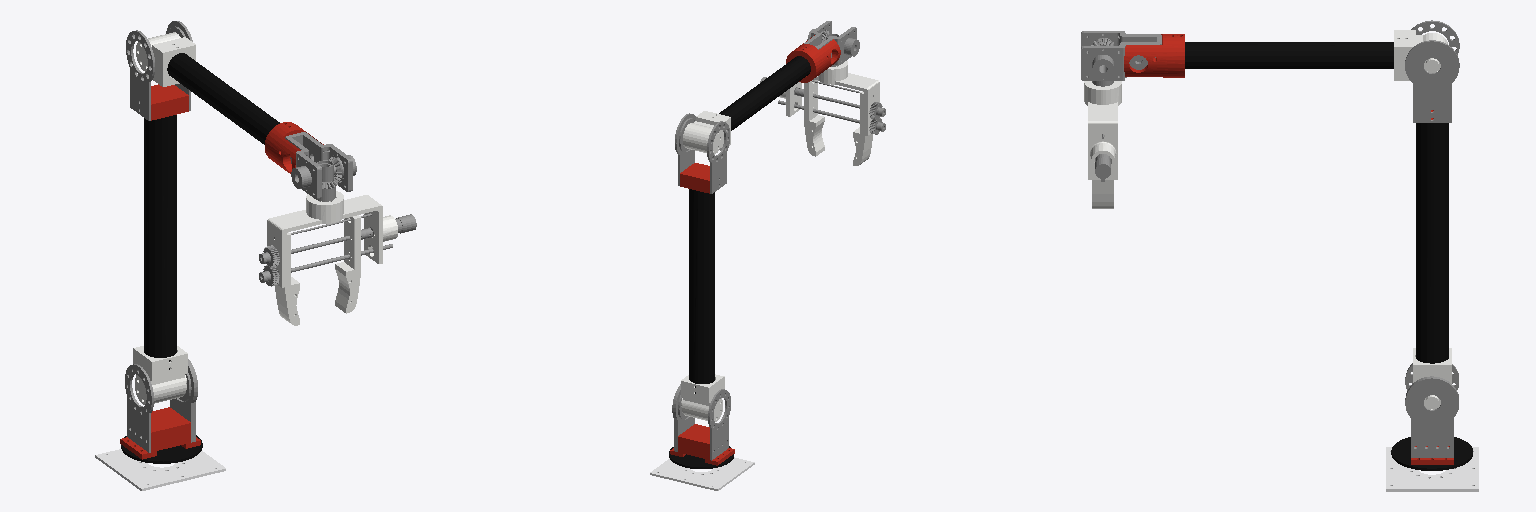
--- Facts derived from the render (not from the file) ---
3 views of the same robot in one strip: view 1: azimuth 30°, elevation 25°; view 2: azimuth 150°, elevation 25°; view 3: azimuth 270°, elevation 25° (orthographic).
Robot: newmanip_description — 30 links, 29 joints (6 revolute, 2 prismatic, 21 fixed); root link base_link; default pose: every joint at zero.
Visible links, largest first — view 1: link1, gripper, link2, rigid_base_plate, link1_bottom, link3, link1_base_connector, claw2, link1_motor_holder, link2_base_holder, link2_motor_holder, link3_holder (+4 smaller); view 2: link1, link2, gripper, rigid_base_plate, link1_bottom, link2_base_holder, link1_base_connector, claw2, link3_holder, link1_motor_holder, link2_motor_holder, link3 (+3 smaller); view 3: link1, link2, link1_holder_plate_2, link2_holder_plate, gripper, rigid_base_plate, link3, link3_holder, link2_base_holder, manipulator_base_plate, link1_bottom, claw2.
Link boxes in pixels (left/top/right/bottom): link1: left=144, top=115, right=176, bottom=369; gripper: left=267, top=191, right=397, bottom=287; link2: left=167, top=53, right=279, bottom=144; rigid_base_plate: left=95, top=449, right=225, bottom=490; link1_bottom: left=133, top=346, right=187, bottom=404; link3: left=285, top=132, right=352, bottom=199; link1_base_connector: left=120, top=407, right=200, bottom=459; claw2: left=335, top=215, right=360, bottom=313; link1_motor_holder: left=125, top=364, right=153, bottom=452; link2_base_holder: left=136, top=32, right=195, bottom=86; link2_motor_holder: left=126, top=30, right=154, bottom=120; link3_holder: left=265, top=122, right=323, bottom=173; link1: left=689, top=189, right=714, bottom=393; link2: left=719, top=56, right=810, bottom=130; gripper: left=779, top=61, right=879, bottom=135; rigid_base_plate: left=650, top=457, right=754, bottom=490; link1_bottom: left=681, top=374, right=724, bottom=421; link2_base_holder: left=683, top=111, right=730, bottom=154; link1_base_connector: left=670, top=424, right=734, bottom=465; claw2: left=804, top=79, right=824, bottom=156; link3_holder: left=786, top=35, right=840, bottom=82; link1_motor_holder: left=708, top=389, right=730, bottom=460; link2_motor_holder: left=707, top=121, right=729, bottom=193; link3: left=804, top=21, right=856, bottom=65; link1: left=1416, top=123, right=1448, bottom=363; link2: left=1185, top=42, right=1393, bottom=68; link1_holder_plate_2: left=1405, top=378, right=1458, bottom=457; link2_holder_plate: left=1405, top=40, right=1459, bottom=122; gripper: left=1084, top=81, right=1121, bottom=179; rigid_base_plate: left=1386, top=447, right=1478, bottom=491; link3: left=1081, top=31, right=1161, bottom=80; link3_holder: left=1124, top=34, right=1184, bottom=77; link2_base_holder: left=1394, top=30, right=1447, bottom=80; manipulator_base_plate: left=1391, top=437, right=1472, bottom=470; link1_bottom: left=1413, top=348, right=1451, bottom=409; claw2: left=1092, top=180, right=1113, bottom=208.
Bounding box of the posed robot: 0.3207 × 0.7261 × 0.8855 m (x, y, z).
Meshes: 29 distinct files referenced, 29 mesh visuals loaded (29 binary STL).

URDF robot description (newmanip_description):
<?xml version="1.0" encoding="utf-8"?>
<!-- This URDF was automatically created by SolidWorks to URDF Exporter! Originally created by Stephen Brawner ([email redacted]) 
     Commit Version: 1.6.0-4-g7f85cfe  Build Version: 1.6.7995.38578
     For more information, please see http://wiki.ros.org/sw_urdf_exporter -->
<robot name="newmanip_description">

  <link name="base_link"/>
  <joint name="base_to_base_plate" type="fixed">
    <parent link="base_link"/>
    <child link="rigid_base_plate"/>
    <origin xyz="0 0 0" rpy="0 0 0"/>
  </joint>

  <link name="rigid_base_plate">
    <inertial>
      <origin xyz="-0.00224854905210758 -2.22044604925031E-16 -1.11022302462516E-16" rpy="0 0 0" />
      <mass value="0.139707136084498" />
      <inertia ixx="0.000362153855961995" ixy="-1.86445498629699E-19" ixz="6.69074444268395E-18" iyy="0.000407966760717313" iyz="-2.52141086441536E-18" izz="0.000769538503612289" />
    </inertial>
    <visual>
      <origin xyz="0 0 0" rpy="0 0 0" />
      <geometry>
        <mesh filename="package://newmanip_description/meshes/rigid_base_plate.STL" />
      </geometry>
      <material name="">
        <color rgba="0.96078431372549 0.96078431372549 0.964705882352941 1" />
      </material>
    </visual>
    <collision>
      <origin xyz="0 0 0" rpy="0 0 0" />
      <geometry>
        <mesh filename="package://newmanip_description/meshes/rigid_base_plate.STL" />
      </geometry>
    </collision>
  </link>
  <link name="manipulator_base_plate">
    <inertial>
      <origin xyz="1.22886286373358E-05 1.11022302462516E-16 1.11022302462516E-16" rpy="0 0 0" />
      <mass value="0.0862820052494155" />
      <inertia ixx="0.000123802300064541" ixy="-2.58850064594347E-19" ixz="1.72303453251338E-18" iyy="0.000121470538062705" iyz="-8.61839529210846E-19" izz="0.00024491332977204" />
    </inertial>
    <visual>
      <origin xyz="0 0 0" rpy="0 0 0" />
      <geometry>
        <mesh filename="package://newmanip_description/meshes/manipulator_base_plate.STL" />
      </geometry>
      <material name="">
        <color rgba="0.0980392156862745 0.0980392156862745 0.0980392156862745 1" />
      </material>
    </visual>
    <collision>
      <origin xyz="0 0 0" rpy="0 0 0" />
      <geometry>
        <mesh filename="package://newmanip_description/meshes/manipulator_base_plate.STL" />
      </geometry>
    </collision>
  </link>
  <joint name="manipulaotr_base_plate_j_base_plate" type="revolute">
    <origin xyz="0 0 0.035" rpy="0 0 0" />
    <parent link="rigid_base_plate" />
    <child link="manipulator_base_plate" />
    <axis xyz="0 0 1" />
    <limit lower="0" upper="6.28" effort="5" velocity="300" />
  </joint>
  <link name="link1_base_connector">
    <inertial>
      <origin xyz="-0.00250683727782453 7.21501936895574E-06 0.0284780963824992" rpy="0 0 0" />
      <mass value="0.3101493034797" />
      <inertia ixx="0.000225770602403096" ixy="-1.53108847872636E-11" ixz="-4.44856677198981E-08" iyy="0.000328764440352947" iyz="-9.00769232145696E-09" izz="0.000429446427553537" />
    </inertial>
    <visual>
      <origin xyz="0 0 0" rpy="0 0 0" />
      <geometry>
        <mesh filename="package://newmanip_description/meshes/link1_base_connector.STL" />
      </geometry>
      <material name="">
        <color rgba="0.768627450980392 0.207843137254902 0.152941176470588 1" />
      </material>
    </visual>
    <collision>
      <origin xyz="0 0 0" rpy="0 0 0" />
      <geometry>
        <mesh filename="package://newmanip_description/meshes/link1_base_connector.STL" />
      </geometry>
    </collision>
  </link>
  <joint name="link1_base_connector_j_base_plate" type="fixed">
    <origin xyz="0 0 0" rpy="0 0 0" />
    <parent link="manipulator_base_plate" />
    <child link="link1_base_connector" />
    <axis xyz="0 0 0" />
  </joint>
  <link name="link1_motor_holder">
    <inertial>
      <origin xyz="-5.01820807130571E-14 0.0102439720821413 0.0484515092209075" rpy="0 0 0" />
      <mass value="0.0472357381724757" />
      <inertia ixx="0.000129972797985735" ixy="7.57422861461972E-17" ixz="5.0252648576416E-14" iyy="9.69913160495726E-05" iyz="-4.58591894562E-09" izz="3.3178297068652E-05" />
    </inertial>
    <visual>
      <origin xyz="0 0 0" rpy="0 0 0" />
      <geometry>
        <mesh filename="package://newmanip_description/meshes/link1_motor_holder.STL" />
      </geometry>
      <material name="">
        <color rgba="0.627450980392157 0.627450980392157 0.627450980392157 1" />
      </material>
    </visual>
    <collision>
      <origin xyz="0 0 0" rpy="0 0 0" />
      <geometry>
        <mesh filename="package://newmanip_description/meshes/link1_motor_holder.STL" />
      </geometry>
    </collision>
  </link>
  <joint name="link1_motor_holder_j_link1_base_connector" type="fixed">
    <origin xyz="-0.0475 -0.010235 0.0325" rpy="0 0 0" />
    <parent link="link1_base_connector" />
    <child link="link1_motor_holder" />
    <axis xyz="0 0 0" />
  </joint>
  <link name="link1_holder_plate1">
    <inertial>
      <origin xyz="-7.59478585334872E-05 0.0302376768181887 0.0532016958918762" rpy="0 0 0" />
      <mass value="0.0534173325460069" />
      <inertia ixx="0.000146682680726942" ixy="-1.06020409384096E-11" ixz="1.49286094539467E-07" iyy="0.000109985302453133" iyz="7.03231800187629E-09" izz="3.69574692009433E-05" />
    </inertial>
    <visual>
      <origin xyz="0 0 0" rpy="0 0 0" />
      <geometry>
        <mesh filename="package://newmanip_description/meshes/link1_holder_plate1.STL" />
      </geometry>
      <material name="">
        <color rgba="0.627450980392157 0.627450980392157 0.627450980392157 1" />
      </material>
    </visual>
    <collision>
      <origin xyz="0 0 0" rpy="0 0 0" />
      <geometry>
        <mesh filename="package://newmanip_description/meshes/link1_holder_plate1.STL" />
      </geometry>
    </collision>
  </link>
  <joint name="link1_holder_plate1_j_link1_base_connector" type="fixed">
    <origin xyz="0.0425 -0.030235 0.0325" rpy="0 0 0" />
    <parent link="link1_base_connector" />
    <child link="link1_holder_plate1" />
    <axis xyz="0 0 0" />
  </joint>
  <link name="link1_holder_plate_2">
    <inertial>
      <origin xyz="6.66133814775094E-16 0.0302374993702151 0.057469700426654" rpy="0 0 0" />
      <mass value="0.048340470503894" />
      <inertia ixx="0.000126171826754474" ixy="1.06018937826447E-19" ixz="-1.40627336671772E-18" iyy="9.57171643871991E-05" iyz="6.11742086252551E-09" izz="3.05835702886188E-05" />
    </inertial>
    <visual>
      <origin xyz="0 0 0" rpy="0 0 0" />
      <geometry>
        <mesh filename="package://newmanip_description/meshes/link1_holder_plate_2.STL" />
      </geometry>
      <material name="">
        <color rgba="0.627450980392157 0.627450980392157 0.627450980392157 1" />
      </material>
    </visual>
    <collision>
      <origin xyz="0 0 0" rpy="0 0 0" />
      <geometry>
        <mesh filename="package://newmanip_description/meshes/link1_holder_plate_2.STL" />
      </geometry>
    </collision>
  </link>
  <joint name="link1_holder_plate2_j_plate1" type="fixed">
    <origin xyz="0.047 -0.030235 0.0325" rpy="0 0 0" />
    <parent link="link1_base_connector" />
    <child link="link1_holder_plate_2" />
    <axis xyz="0 0 0" />
  </joint>
  <link name="link1_bottom">
    <inertial>
      <origin xyz="-0.043858301946271 2.53706144981436E-09 0.0175036982186831" rpy="0 0 0" />
      <mass value="0.33776487197569" />
      <inertia ixx="0.00033772543614853" ixy="-3.46909757097291E-12" ixz="5.12404937468018E-06" iyy="0.000417922135939936" iyz="1.10059853231461E-11" izz="0.0003075355761408" />
    </inertial>
    <visual>
      <origin xyz="0 0 0" rpy="0 0 0" />
      <geometry>
        <mesh filename="package://newmanip_description/meshes/link1_bottom.STL" />
      </geometry>
      <material name="">
        <color rgba="0.964705882352941 0.964705882352941 0.952941176470588 1" />
      </material>
    </visual>
    <collision>
      <origin xyz="0 0 0" rpy="0 0 0" />
      <geometry>
        <mesh filename="package://newmanip_description/meshes/link1_bottom.STL" />
      </geometry>
    </collision>
  </link>
  <joint name="lin1_bottom_j_motor_holder_plate2" type="revolute">
    <origin xyz="-0.004775 0.030235 0.09" rpy="0 0 0" />
    <parent link="link1_holder_plate_2" />
    <child link="link1_bottom" />
    <axis xyz="-1 0 0" />
    <limit lower="-1.0" upper="0.0" effort="5" velocity="300" />
  </joint>
  <link name="link1">
    <inertial>
      <origin xyz="-5.39581868075345E-09 -1.69612222045146E-08 0.260067885294572" rpy="0 0 0" />
      <mass value="1.16262072100872" />
      <inertia ixx="0.0294764717399224" ixy="2.64070289134653E-08" ixz="3.02264641415134E-09" iyy="0.0294766138223382" iyz="-6.05581113367684E-09" izz="0.000654113236446206" />
    </inertial>
    <visual>
      <origin xyz="0 0 0" rpy="0 0 0" />
      <geometry>
        <mesh filename="package://newmanip_description/meshes/link1.STL" />
      </geometry>
      <material name="">
        <color rgba="0.0980392156862745 0.0980392156862745 0.0980392156862745 1" />
      </material>
    </visual>
    <collision>
      <origin xyz="0 0 0" rpy="0 0 0" />
      <geometry>
        <mesh filename="package://newmanip_description/meshes/link1.STL" />
      </geometry>
    </collision>
  </link>
  <joint name="link1_j_link1_bottom" type="fixed">
    <origin xyz="-0.044725 0 0.055" rpy="0 0 0" />
    <parent link="link1_bottom" />
    <child link="link1" />
    <axis xyz="0 0 0" />
  </joint>
  <link name="link1_end_part">
    <inertial>
      <origin xyz="3.49700294943744E-07 -5.36573157017273E-08 0.0025745156955117" rpy="0 0 0" />
      <mass value="0.0887935549462749" />
      <inertia ixx="6.05870122823914E-05" ixy="-1.20673426212271E-11" ixz="1.34987864310752E-11" iyy="8.18529027888766E-05" iyz="-3.93645552324886E-13" izz="0.000124952192875935" />
    </inertial>
    <visual>
      <origin xyz="0 0 0" rpy="0 0 0" />
      <geometry>
        <mesh filename="package://newmanip_description/meshes/link1_end_part.STL" />
      </geometry>
      <material name="">
        <color rgba="0.768627450980392 0.207843137254902 0.152941176470588 1" />
      </material>
    </visual>
    <collision>
      <origin xyz="0 0 0" rpy="0 0 0" />
      <geometry>
        <mesh filename="package://newmanip_description/meshes/link1_end_part.STL" />
      </geometry>
    </collision>
  </link>
  <joint name="link1_end_part_j_link1" type="fixed">
    <origin xyz="0 0 0.51997" rpy="0 0 0" />
    <parent link="link1" />
    <child link="link1_end_part" />
    <axis xyz="0 0 0" />
  </joint>
  <link name="link2_holder_plate">
    <inertial>
      <origin xyz="-2.01196429752137E-05 7.42303459810856E-08 0.0581704451095113" rpy="0 0 0" />
      <mass value="0.0587346240548899" />
      <inertia ixx="0.00016111589583289" ixy="1.06567062915207E-12" ixz="3.89385339679009E-08" iyy="0.000126130278788689" iyz="1.31250923946133E-11" izz="3.52646621936093E-05" />
    </inertial>
    <visual>
      <origin xyz="0 0 0" rpy="0 0 0" />
      <geometry>
        <mesh filename="package://newmanip_description/meshes/link2_holder_plate.STL" />
      </geometry>
      <material name="">
        <color rgba="0.627450980392157 0.627450980392157 0.627450980392157 1" />
      </material>
    </visual>
    <collision>
      <origin xyz="0 0 0" rpy="0 0 0" />
      <geometry>
        <mesh filename="package://newmanip_description/meshes/link2_holder_plate.STL" />
      </geometry>
    </collision>
  </link>
  <joint name="link2_holder_plate_j_link1_endpart" type="fixed">
    <origin xyz="0.0425 0 0.0094039" rpy="0 0 0" />
    <parent link="link1_end_part" />
    <child link="link2_holder_plate" />
    <axis xyz="0 0 0" />
  </joint>
  <link name="link2_base_holder">
    <inertial>
      <origin xyz="-0.0396701193420625 -0.0198734327497784 -2.57427568595148E-07" rpy="0 0 0" />
      <mass value="0.334451491213555" />
      <inertia ixx="0.000352606274559091" ixy="-3.68775904581431E-06" ixz="9.85102576858203E-13" iyy="0.000277425037448963" iyz="-1.92982150605619E-11" izz="0.000399176202587073" />
    </inertial>
    <visual>
      <origin xyz="0 0 0" rpy="0 0 0" />
      <geometry>
        <mesh filename="package://newmanip_description/meshes/link2_base_holder.STL" />
      </geometry>
      <material name="">
        <color rgba="0.964705882352941 0.964705882352941 0.952941176470588 1" />
      </material>
    </visual>
    <collision>
      <origin xyz="0 0 0" rpy="0 0 0" />
      <geometry>
        <mesh filename="package://newmanip_description/meshes/link2_base_holder.STL" />
      </geometry>
    </collision>
  </link>
  <joint name="link2_base_holder_j_link2_holder_plate" type="revolute">
    <origin xyz="-0.0022749 0 0.091125" rpy="0 0 0" />
    <parent link="link2_holder_plate" />
    <child link="link2_base_holder" />
    <axis xyz="-1 0 0" />
    <limit lower="-0.85" upper="0.85" effort="5" velocity="300" />
  </joint>
  <link name="link2">
    <inertial>
      <origin xyz="-3.2036842068095E-09 -0.210020758728246 3.06611558364978E-09" rpy="0 0 0" />
      <mass value="0.738793048590477" />
      <inertia ixx="0.0125138808760153" ixy="2.81531282534996E-11" ixz="2.36623911843703E-11" iyy="0.000267941556387362" iyz="4.69560000685452E-11" izz="0.0125149718463103" />
    </inertial>
    <visual>
      <origin xyz="0 0 0" rpy="0 0 0" />
      <geometry>
        <mesh filename="package://newmanip_description/meshes/link2.STL" />
      </geometry>
      <material name="">
        <color rgba="0.0980392156862745 0.0980392156862745 0.0980392156862745 1" />
      </material>
    </visual>
    <collision>
      <origin xyz="0 0 0" rpy="0 0 0" />
      <geometry>
        <mesh filename="package://newmanip_description/meshes/link2.STL" />
      </geometry>
    </collision>
  </link>
  <joint name="link2_j_link2_bottom" type="fixed">
    <origin xyz="-0.040225 -0.055 0" rpy="0 0 0" />
    <parent link="link2_base_holder" />
    <child link="link2" />
    <axis xyz="0 0 0" />
  </joint>
  <link name="link3_holder">
    <inertial>
      <origin xyz="1.04092800823352E-07 -0.0212951513452504 -7.80283795864811E-05" rpy="0 0 0" />
      <mass value="0.188164308449144" />
      <inertia ixx="0.000263210714322179" ixy="1.19504902122293E-09" ixz="4.12755228449986E-11" iyy="0.000217666445518385" iyz="-2.0692789254073E-07" izz="0.000312157989750956" />
    </inertial>
    <visual>
      <origin xyz="0 0 0" rpy="0 0 0" />
      <geometry>
        <mesh filename="package://newmanip_description/meshes/link3_holder.STL" />
      </geometry>
      <material name="">
        <color rgba="0.768627450980392 0.207843137254902 0.152941176470588 1" />
      </material>
    </visual>
    <collision>
      <origin xyz="0 0 0" rpy="0 0 0" />
      <geometry>
        <mesh filename="package://newmanip_description/meshes/link3_holder.STL" />
      </geometry>
    </collision>
  </link>
  <joint name="link3_holder_j_link2" type="fixed">
    <origin xyz="0 -0.41558 0" rpy="0 0 0" />
    <parent link="link2" />
    <child link="link3_holder" />
    <axis xyz="0 0 0" />
  </joint>
  <link name="link3">
    <inertial>
      <origin xyz="-0.0169999999422197 -0.01892736028304 -6.04970303303975E-05" rpy="0 0 0" />
      <mass value="0.186401761983701" />
      <inertia ixx="0.00041649103061218" ixy="3.34702334402905E-13" ixz="-3.13694565292869E-11" iyy="0.000184673919396029" iyz="-1.00161394749398E-06" izz="0.000448406474476473" />
    </inertial>
    <visual>
      <origin xyz="0 0 0" rpy="0 0 0" />
      <geometry>
        <mesh filename="package://newmanip_description/meshes/link3.STL" />
      </geometry>
      <material name="">
        <color rgba="0.627450980392157 0.627450980392157 0.627450980392157 1" />
      </material>
    </visual>
    <collision>
      <origin xyz="0 0 0" rpy="0 0 0" />
      <geometry>
        <mesh filename="package://newmanip_description/meshes/link3.STL" />
      </geometry>
    </collision>
  </link>
  <joint name="link3_j_link3_holder" type="fixed">
    <origin xyz="0.017 -0.065388 0" rpy="0 0 0" />
    <parent link="link3_holder" />
    <child link="link3" />
    <axis xyz="0 0 0" />
  </joint>
  <link name="bevel_2_1">
    <inertial>
      <origin xyz="-0.00198768283371575 4.61148896846453E-11 -6.90960622051762E-11" rpy="0 0 0" />
      <mass value="0.0392764387724245" />
      <inertia ixx="9.38677349018228E-06" ixy="3.28897900019598E-14" ixz="-2.48284275580556E-14" iyy="9.32983228228972E-06" iyz="-4.95150376085659E-16" izz="9.32983227817736E-06" />
    </inertial>
    <visual>
      <origin xyz="0 0 0" rpy="0 0 0" />
      <geometry>
        <mesh filename="package://newmanip_description/meshes/bevel_2_1.STL" />
      </geometry>
      <material name="">
        <color rgba="0.627450980392157 0.627450980392157 0.627450980392157 1" />
      </material>
    </visual>
    <collision>
      <origin xyz="0 0 0" rpy="0 0 0" />
      <geometry>
        <mesh filename="package://newmanip_description/meshes/bevel_2_1.STL" />
      </geometry>
    </collision>
  </link>
  <joint name="bevel_2_1_j_link3" type="revolute">
    <origin xyz="0.024311 -0.064641 -0.00015997" rpy="0 0 0" />
    <parent link="link3" />
    <child link="bevel_2_1" />
    <axis xyz="-1 0 0" />
    <limit lower="-0.2" upper="3.14" effort="5" velocity="300" />
  </joint>
  <link name="link3_coupler">
    <inertial>
      <origin xyz="-5.82388929926125E-05 6.31850608294737E-05 0.00122932281260923" rpy="0 0 0" />
      <mass value="0.0167222714991286" />
      <inertia ixx="2.02973783240983E-06" ixy="1.06542374992194E-10" ixz="5.07256991235962E-10" iyy="3.61055369765391E-06" iyz="-5.45281201822252E-10" izz="3.89529398167193E-06" />
    </inertial>
    <visual>
      <origin xyz="0 0 0" rpy="0 0 0" />
      <geometry>
        <mesh filename="package://newmanip_description/meshes/link3_coupler.STL" />
      </geometry>
      <material name="">
        <color rgba="0.627450980392157 0.627450980392157 0.627450980392157 1" />
      </material>
    </visual>
    <collision>
      <origin xyz="0 0 0" rpy="0 0 0" />
      <geometry>
        <mesh filename="package://newmanip_description/meshes/link3_coupler.STL" />
      </geometry>
    </collision>
  </link>
  <joint name="link3_coupler_j_bevel_2_1" type="fixed">
    <origin xyz="-0.039112 -0.00018086 -0.0017479" rpy="0 0 0" />
    <parent link="bevel_2_1" />
    <child link="link3_coupler" />
    <axis xyz="0 0 -1" />
    <limit lower="0" upper="-3.14" effort="5" velocity="300" />
  </joint>
  <link name="bevel1">
    <inertial>
      <origin xyz="-7.70539188010844E-12 -1.26052945859101E-10 0.00346916742513037" rpy="0 0 0" />
      <mass value="0.0389255764607632" />
      <inertia ixx="7.4012826126844E-06" ixy="1.27861267831252E-15" ixz="8.75309317586799E-15" iyy="7.40128260914493E-06" iyz="8.08425734285388E-14" izz="8.03729543400708E-06" />
    </inertial>
    <visual>
      <origin xyz="0 0 0" rpy="0 0 0" />
      <geometry>
        <mesh filename="package://newmanip_description/meshes/bevel1.STL" />
      </geometry>
      <material name="">
        <color rgba="0.627450980392157 0.627450980392157 0.627450980392157 1" />
      </material>
    </visual>
    <collision>
      <origin xyz="0 0 0" rpy="0 0 0" />
      <geometry>
        <mesh filename="package://newmanip_description/meshes/bevel1.STL" />
      </geometry>
    </collision>
  </link>
  <joint name="bevel1_j_link3_coupler" type="revolute">
    <origin xyz="0 0 -0.037478" rpy="0 0 0" />
    <parent link="link3_coupler" />
    <child link="bevel1" />
    <axis xyz="0 0 -1" />
    <limit lower="0" upper="6.28" effort="5" velocity="300" />
  </joint>
  <link name="gripper">
    <inertial>
      <origin xyz="0.00947390082512833 -3.16404236144763E-10 -0.0326962287167527" rpy="0 0 0" />
      <mass value="0.341464156501707" />
      <inertia ixx="0.000604244616606819" ixy="1.38650343886313E-12" ixz="0.000143274518301015" iyy="0.00239586527325236" iyz="-3.96987708690604E-12" izz="0.00198563943102793" />
    </inertial>
    <visual>
      <origin xyz="0 0 0" rpy="0 0 0" />
      <geometry>
        <mesh filename="package://newmanip_description/meshes/gripper.STL" />
      </geometry>
      <material name="">
        <color rgba="0.964705882352941 0.964705882352941 0.952941176470588 1" />
      </material>
    </visual>
    <collision>
      <origin xyz="0 0 0" rpy="0 0 0" />
      <geometry>
        <mesh filename="package://newmanip_description/meshes/gripper.STL" />
      </geometry>
    </collision>
  </link>
  <joint name="gripper_j_bevel1" type="fixed">
    <origin xyz="0 0 -0.029432" rpy="0 0 0" />
    <parent link="bevel1" />
    <child link="gripper" />
    <axis xyz="0 0 0" />
    <limit lower="0" upper="6.28" effort="5" velocity="300" />
  </joint>
  <link name="ss_rod">
    <inertial>
      <origin xyz="0.1075 7.105427357601E-15 5.88520343569598E-11" rpy="0 0 0" />
      <mass value="0.00282743338823081" />
      <inertia ixx="5.65486677646163E-09" ixy="-4.26106075205144E-20" ixz="-6.52806601260074E-15" iyy="1.1931062039987E-05" iyz="-2.33254048897856E-29" izz="1.1931062039987E-05" />
    </inertial>
    <visual>
      <origin xyz="0 0 0" rpy="0 0 0" />
      <geometry>
        <mesh filename="package://newmanip_description/meshes/ss_rod.STL" />
      </geometry>
      <material name="">
        <color rgba="0.627450980392157 0.627450980392157 0.627450980392157 1" />
      </material>
    </visual>
    <collision>
      <origin xyz="0 0 0" rpy="0 0 0" />
      <geometry>
        <mesh filename="package://newmanip_description/meshes/ss_rod.STL" />
      </geometry>
    </collision>
  </link>
  <joint name="ss_rod_j_gripper" type="fixed">
    <origin xyz="-0.1025 0 -0.041068" rpy="0 0 0" />
    <parent link="gripper" />
    <child link="ss_rod" />
    <axis xyz="0 0 0" />
  </joint>
  <link name="spurgear1">
    <inertial>
      <origin xyz="0.01073269105099 -6.21724893790088E-15 5.86419801607008E-12" rpy="0 0 0" />
      <mass value="0.017095911870029" />
      <inertia ixx="2.6664867878511E-06" ixy="1.85129689989352E-19" ixz="2.79946888523974E-16" iyy="2.15564617596662E-06" iyz="-1.23291483113597E-15" izz="2.15564618008356E-06" />
    </inertial>
    <visual>
      <origin xyz="0 0 0" rpy="0 0 0" />
      <geometry>
        <mesh filename="package://newmanip_description/meshes/spurgear1.STL" />
      </geometry>
      <material name="">
        <color rgba="0.627450980392157 0.627450980392157 0.627450980392157 1" />
      </material>
    </visual>
    <collision>
      <origin xyz="0 0 0" rpy="0 0 0" />
      <geometry>
        <mesh filename="package://newmanip_description/meshes/spurgear1.STL" />
      </geometry>
    </collision>
  </link>
  <joint name="spur_gear1_j_gripper" type="fixed">
    <origin xyz="-0.1277 0 -0.077068" rpy="0 0 0" />
    <parent link="gripper" />
    <child link="spurgear1" />
    <axis xyz="-1 0 0" />
    <limit lower="0" upper="6.28" effort="5" velocity="300" />
  </joint>
  <link name="threded_rod_up">
    <inertial>
      <origin xyz="0 2.22044604925031E-16 2.22044604925031E-16" rpy="0 0 0" />
      <mass value="0.0121489228511336" />
      <inertia ixx="9.39627397423046E-08" ixy="-2.25918058139595E-19" ixz="-3.461185052434E-14" iyy="6.33226212195255E-05" iyz="-1.23669450529155E-28" izz="6.33226212195255E-05" />
    </inertial>
    <visual>
      <origin xyz="0 0 0" rpy="0 0 0" />
      <geometry>
        <mesh filename="package://newmanip_description/meshes/threded_rod_up.STL" />
      </geometry>
      <material name="">
        <color rgba="0.627450980392157 0.627450980392157 0.627450980392157 1" />
      </material>
    </visual>
    <collision>
      <origin xyz="0 0 0" rpy="0 0 0" />
      <geometry>
        <mesh filename="package://newmanip_description/meshes/threded_rod_up.STL" />
      </geometry>
    </collision>
  </link>
  <joint name="threded_jod_j_gripper" type="fixed">
    <origin xyz="0.0175 0 -0.077068" rpy="0 0 0" />
    <parent link="gripper" />
    <child link="threded_rod_up" />
    <axis xyz="-1 0 0" />
    <limit lower="0" upper="0" effort="0" velocity="0" />
  </joint>
  <link name="claw1">
    <inertial>
      <origin xyz="0.00575880746643986 -3.50262773762822E-06 -0.0565127254748121" rpy="0 0 0" />
      <mass value="0.134410672799192" />
      <inertia ixx="0.000371952908783262" ixy="5.5004465774372E-09" ixz="3.30601034472799E-05" iyy="0.000362575120952862" iyz="-2.02998931758679E-09" izz="2.71292076973183E-05" />
    </inertial>
    <visual>
      <origin xyz="0 0 0" rpy="0 0 0" />
      <geometry>
        <mesh filename="package://newmanip_description/meshes/claw1.STL" />
      </geometry>
      <material name="">
        <color rgba="0.964705882352941 0.964705882352941 0.952941176470588 1" />
      </material>
    </visual>
    <collision>
      <origin xyz="0 0 0" rpy="0 0 0" />
      <geometry>
        <mesh filename="package://newmanip_description/meshes/claw1.STL" />
      </geometry>
    </collision>
  </link>
  <joint name="claw1_j_threded_rod_up" type="prismatic">
    <origin xyz="-0.1075 0 0" rpy="0 0 0" />
    <parent link="threded_rod_up" />
    <child link="claw1" />
    <axis xyz="-1 0 0" />
    <limit lower="-0.05" upper="0.05" effort="5" velocity="300" />
    <mimic joint="claw2_j_threded_rod_down" multiplier="-1.0" offset="0.0"/>
  </joint>
  <link name="shaft_coupler">
    <inertial>
      <origin xyz="-3.34353145170496E-09 -2.21470920447331E-06 2.20177151222245E-06" rpy="0 0 0" />
      <mass value="0.00642699869056132" />
      <inertia ixx="2.90757461608025E-07" ixy="1.22521912944497E-13" ixz="9.59361453548064E-14" iyy="6.22257888518885E-07" iyz="-1.54341930965944E-10" izz="6.22256087053553E-07" />
    </inertial>
    <visual>
      <origin xyz="0 0 0" rpy="0 0 0" />
      <geometry>
        <mesh filename="package://newmanip_description/meshes/shaft_coupler.STL" />
      </geometry>
      <material name="">
        <color rgba="0.627450980392157 0.627450980392157 0.627450980392157 1" />
      </material>
    </visual>
    <collision>
      <origin xyz="0 0 0" rpy="0 0 0" />
      <geometry>
        <mesh filename="package://newmanip_description/meshes/shaft_coupler.STL" />
      </geometry>
    </collision>
  </link>
  <joint name="shaft_coupller_j_gripper" type="fixed">
    <origin xyz="0.081 0.00015741 -0.077225" rpy="0 0 0" />
    <parent link="gripper" />
    <child link="shaft_coupler" />
    <axis xyz="0 0 0" />
  </joint>
  <link name="motor">
    <inertial>
      <origin xyz="0.0211379514351595 6.88338275267597E-15 1.29814665295047E-05" rpy="0 0 0" />
      <mass value="0.0558864492200027" />
      <inertia ixx="5.79372255972707E-06" ixy="-1.11395473946062E-19" ixz="-2.38707164672831E-08" iyy="3.78491735617808E-05" iyz="1.20433601788769E-21" izz="3.78610357361111E-05" />
    </inertial>
    <visual>
      <origin xyz="0 0 0" rpy="0 0 0" />
      <geometry>
        <mesh filename="package://newmanip_description/meshes/motor.STL" />
      </geometry>
      <material name="">
        <color rgba="0.627450980392157 0.627450980392157 0.627450980392157 1" />
      </material>
    </visual>
    <collision>
      <origin xyz="0 0 0" rpy="0 0 0" />
      <geometry>
        <mesh filename="package://newmanip_description/meshes/motor.STL" />
      </geometry>
    </collision>
  </link>
  <joint name="motor_j_gripper" type="fixed">
    <origin xyz="0.1225 0 -0.077068" rpy="0 0 0" />
    <parent link="gripper" />
    <child link="motor" />
    <axis xyz="0 0 0" />
  </joint>
  <link name="spur_gear2">
    <inertial>
      <origin xyz="0.0107326910509882 -2.88657986402541E-15 5.86020121318143E-12" rpy="0 0 0" />
      <mass value="0.0170959118700088" />
      <inertia ixx="2.6664867878468E-06" ixy="8.3549543536952E-20" ixz="2.80075169711451E-16" iyy="2.15564617575233E-06" iyz="-7.75564904852259E-16" izz="2.15564618029305E-06" />
    </inertial>
    <visual>
      <origin xyz="0 0 0" rpy="0 0 0" />
      <geometry>
        <mesh filename="package://newmanip_description/meshes/spur_gear2.STL" />
      </geometry>
      <material name="">
        <color rgba="0.627450980392157 0.627450980392157 0.627450980392157 1" />
      </material>
    </visual>
    <collision>
      <origin xyz="0 0 0" rpy="0 0 0" />
      <geometry>
        <mesh filename="package://newmanip_description/meshes/spur_gear2.STL" />
      </geometry>
    </collision>
  </link>
  <joint name="spur_gear2_j_gripper" type="fixed">
    <origin xyz="-0.1277 0 -0.11487" rpy="0 0 0" />
    <parent link="gripper" />
    <child link="spur_gear2" />
    <axis xyz="-1 0 0" />
    <limit lower="0" upper="6.28" effort="5" velocity="300" />
  </joint>
  <link name="threded_rod_down">
    <inertial>
      <origin xyz="4.44089209850063E-16 0 -4.44089209850063E-16" rpy="0 0 0" />
      <mass value="0.0121489228511336" />
      <inertia ixx="9.39627397423046E-08" ixy="-2.25918058139595E-19" ixz="-3.461185052434E-14" iyy="6.33226212195255E-05" iyz="-1.23669450529155E-28" izz="6.33226212195255E-05" />
    </inertial>
    <visual>
      <origin xyz="0 0 0" rpy="0 0 0" />
      <geometry>
        <mesh filename="package://newmanip_description/meshes/threded_rod_down.STL" />
      </geometry>
      <material name="">
        <color rgba="0.627450980392157 0.627450980392157 0.627450980392157 1" />
      </material>
    </visual>
    <collision>
      <origin xyz="0 0 0" rpy="0 0 0" />
      <geometry>
        <mesh filename="package://newmanip_description/meshes/threded_rod_down.STL" />
      </geometry>
    </collision>
  </link>
  <joint name="threded_rod_down_j_gripper" type="fixed">
    <origin xyz="0.0175 0 -0.11487" rpy="0 0 0" />
    <parent link="gripper" />
    <child link="threded_rod_down" />
    <axis xyz="-1 0 0" />
    <limit lower="0" upper="0" effort="0" velocity="0" />
  </joint>
  <link name="claw2">
    <inertial>
      <origin xyz="-0.00575880742509649 3.50262773896048E-06 -0.0190127254811181" rpy="0 0 0" />
      <mass value="0.134410672799188" />
      <inertia ixx="0.000371952908855641" ixy="5.50044657641857E-09" ixz="-3.30601030697604E-05" iyy="0.000362575120952851" iyz="2.02998932900778E-09" izz="2.71292076249286E-05" />
    </inertial>
    <visual>
      <origin xyz="0 0 0" rpy="0 0 0" />
      <geometry>
        <mesh filename="package://newmanip_description/meshes/claw2.STL" />
      </geometry>
      <material name="">
        <color rgba="0.964705882352941 0.964705882352941 0.952941176470588 1" />
      </material>
    </visual>
    <collision>
      <origin xyz="0 0 0" rpy="0 0 0" />
      <geometry>
        <mesh filename="package://newmanip_description/meshes/claw2.STL" />
      </geometry>
    </collision>
  </link>
  <joint name="claw2_j_threded_rod_down" type="prismatic">
    <origin xyz="0.041 0 0.000299" rpy="0 0 0" />
    <parent link="threded_rod_down" />
    <child link="claw2" />
    <axis xyz="-1 0 0" />
    <limit lower="0" upper="0.04" effort="5" velocity="0.03" />
  </joint>
  <link name="bevel_2_2">
    <inertial>
      <origin xyz="0.00198768283371975 8.5286000484075E-11 8.57451887270599E-11" rpy="0 0 0" />
      <mass value="0.0392764387724469" />
      <inertia ixx="9.38677349018948E-06" ixy="-5.1670018267452E-14" ixz="-4.17556208174296E-14" iyy="9.32983228157335E-06" iyz="-1.61680580364253E-15" izz="9.3298322789013E-06" />
    </inertial>
    <visual>
      <origin xyz="0 0 0" rpy="0 0 0" />
      <geometry>
        <mesh filename="package://newmanip_description/meshes/bevel_2_2.STL" />
      </geometry>
      <material name="">
        <color rgba="0.627450980392157 0.627450980392157 0.627450980392157 1" />
      </material>
    </visual>
    <collision>
      <origin xyz="0 0 0" rpy="0 0 0" />
      <geometry>
        <mesh filename="package://newmanip_description/meshes/bevel_2_2.STL" />
      </geometry>
    </collision>
  </link>
  <joint name="bevel_2_2_j_link3" type="revolute">
    <origin xyz="-0.058311 -0.064641 -0.00015997" rpy="0 0 0" />
    <parent link="link3" />
    <child link="bevel_2_2" />
    <axis xyz="-1 0 0" />
    <limit lower="-0.2" upper="3.14" effort="5" velocity="300" />
    <mimic joint="bevel_2_1_j_link3" multiplier="1.0" offset="0.0" />
  </joint>
  <link name="link2_motor_holder">
    <inertial>
      <origin xyz="-2.56259458097929E-11 8.04152539002345E-08 0.046877021806319" rpy="0 0 0" />
      <mass value="0.043743804004434" />
      <inertia ixx="0.00012449983939246" ixy="3.41065754728543E-18" ixz="5.29237705775377E-14" iyy="9.68442144708896E-05" iyz="-2.03364458424434E-11" izz="2.78378906768312E-05" />
    </inertial>
    <visual>
      <origin xyz="0 0 0" rpy="0 0 0" />
      <geometry>
        <mesh filename="package://newmanip_description/meshes/link2_motor_holder.STL" />
      </geometry>
      <material name="">
        <color rgba="0.627450980392157 0.627450980392157 0.627450980392157 1" />
      </material>
    </visual>
    <collision>
      <origin xyz="0 0 0" rpy="0 0 0" />
      <geometry>
        <mesh filename="package://newmanip_description/meshes/link2_motor_holder.STL" />
      </geometry>
    </collision>
  </link>
  <joint name="link2_motor_holder_j_link1_endpart" type="fixed">
    <origin xyz="-0.0425 0 0.0094039" rpy="0 0 0" />
    <parent link="link1_end_part" />
    <child link="link2_motor_holder" />
    <axis xyz="0 0 0" />
  </joint>
</robot>
